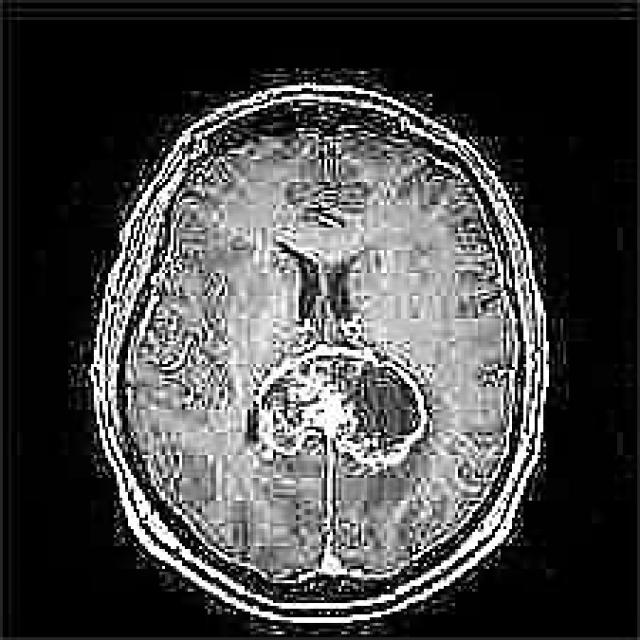Tumor-Cell: (234, 334, 429, 472)
